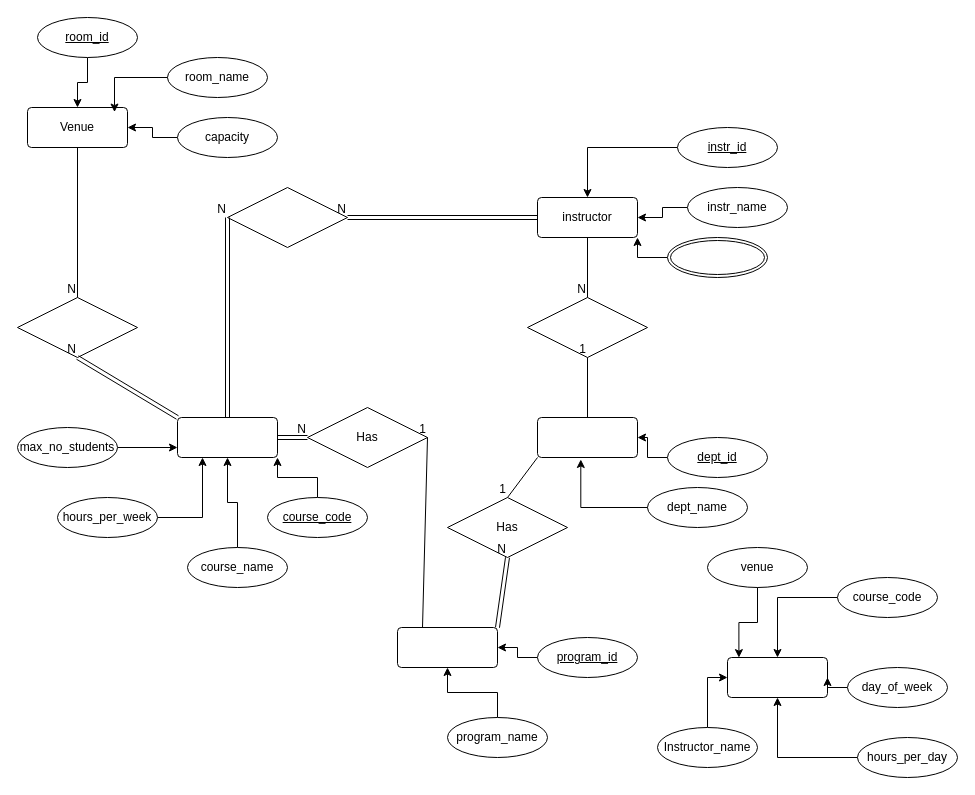
Image size: 975x795. Some labels were removed from this diagram. Each missing label, with the centre of its shape:
"Belongs to" belongs at [587,327].
"course" belongs at [227,437].
"days_of_week" belongs at [717,257].
"Department" belongs at [587,437].
"Hosts" belongs at [77,327].
"program" belongs at [447,647].
"Teaches" belongs at [287,217].
"time_Table" belongs at [777,677].
